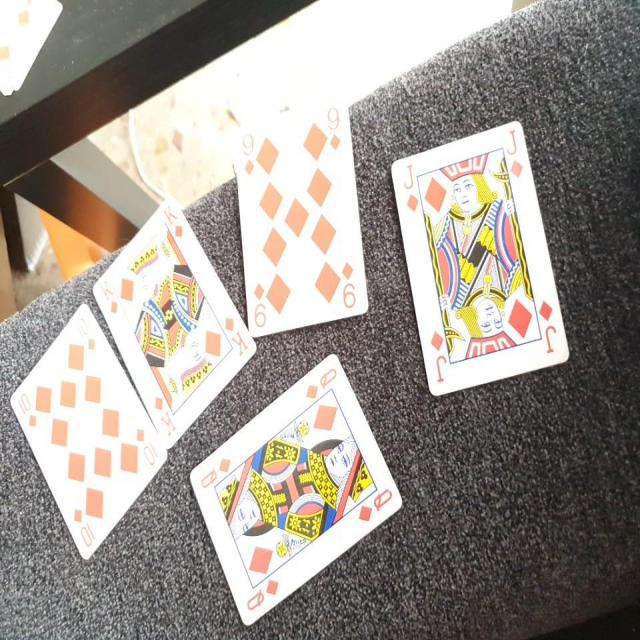10 Diamonds: (10, 301, 168, 562)
9 Diamonds: (231, 94, 370, 337)
J Diamonds: (389, 114, 572, 397)
K Diamonds: (91, 194, 259, 452)
Q Diamonds: (187, 350, 406, 627)
